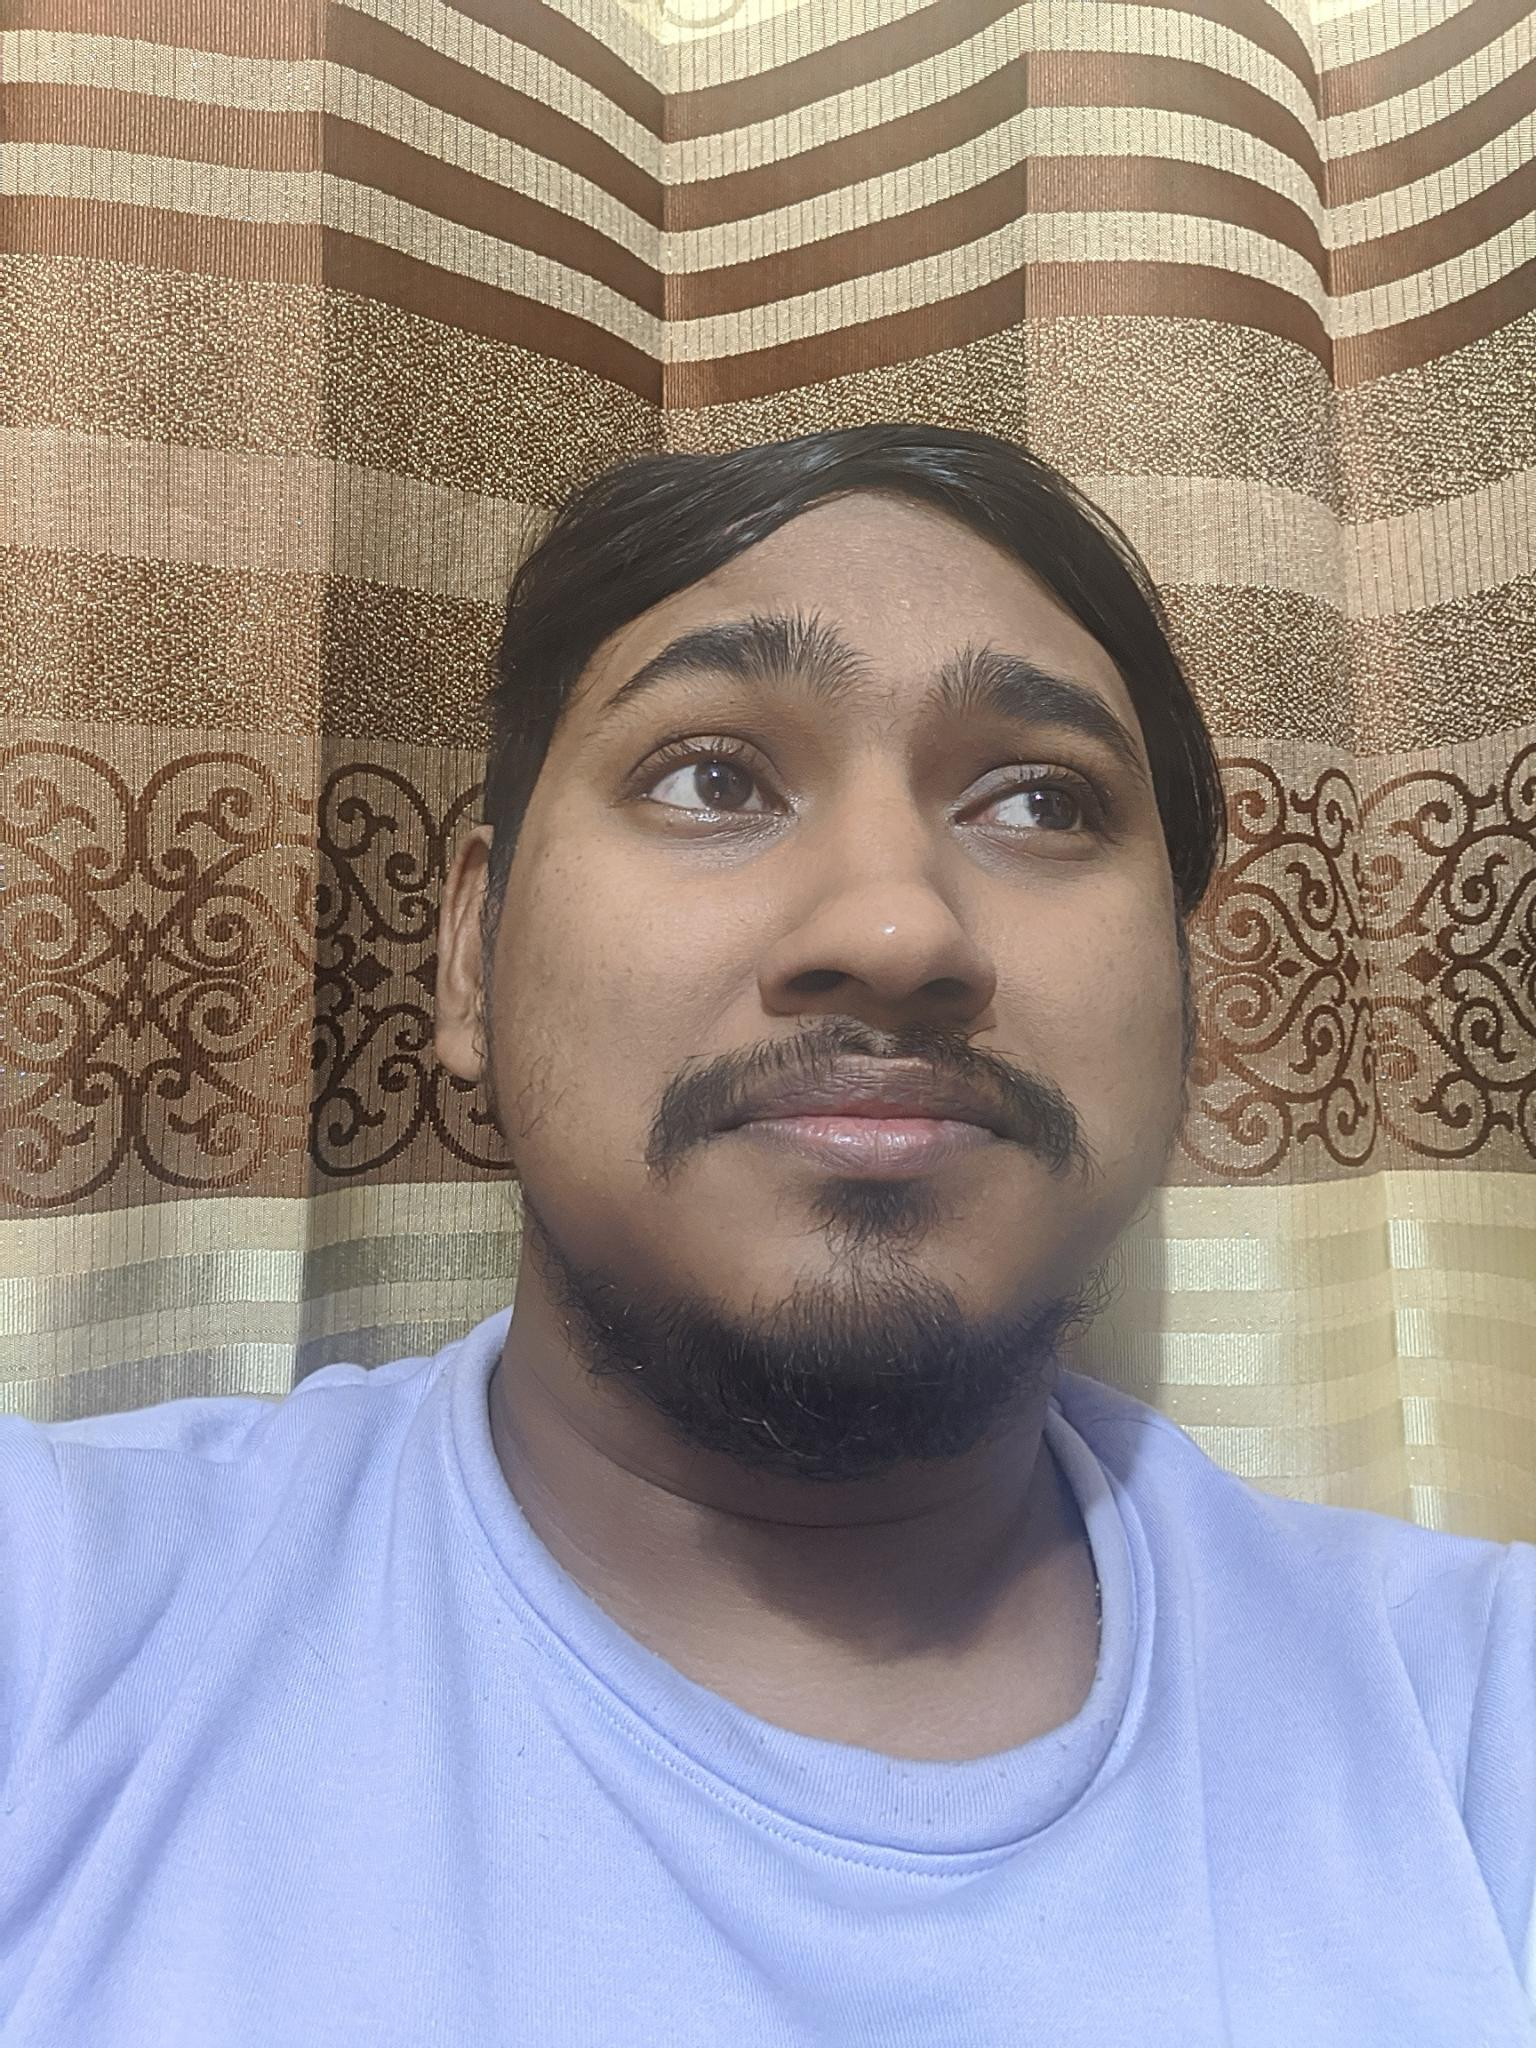Sad: (526, 601, 1205, 1405)
